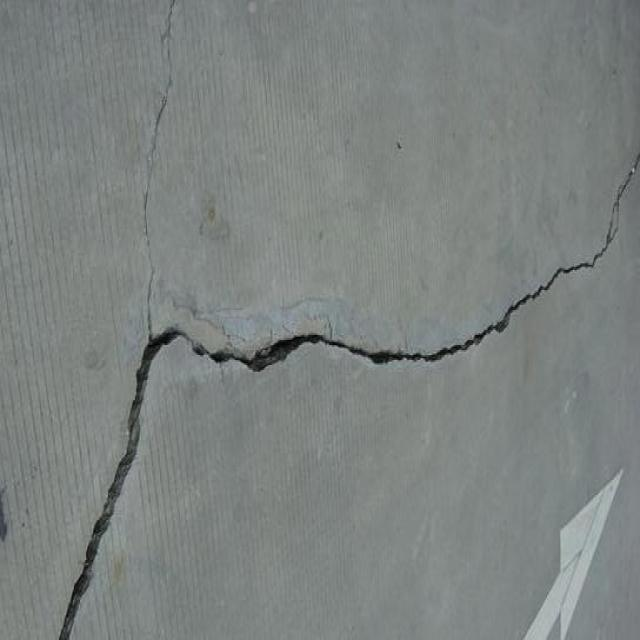crack: (178, 150, 639, 373), (54, 350, 166, 638), (142, 0, 177, 347)
